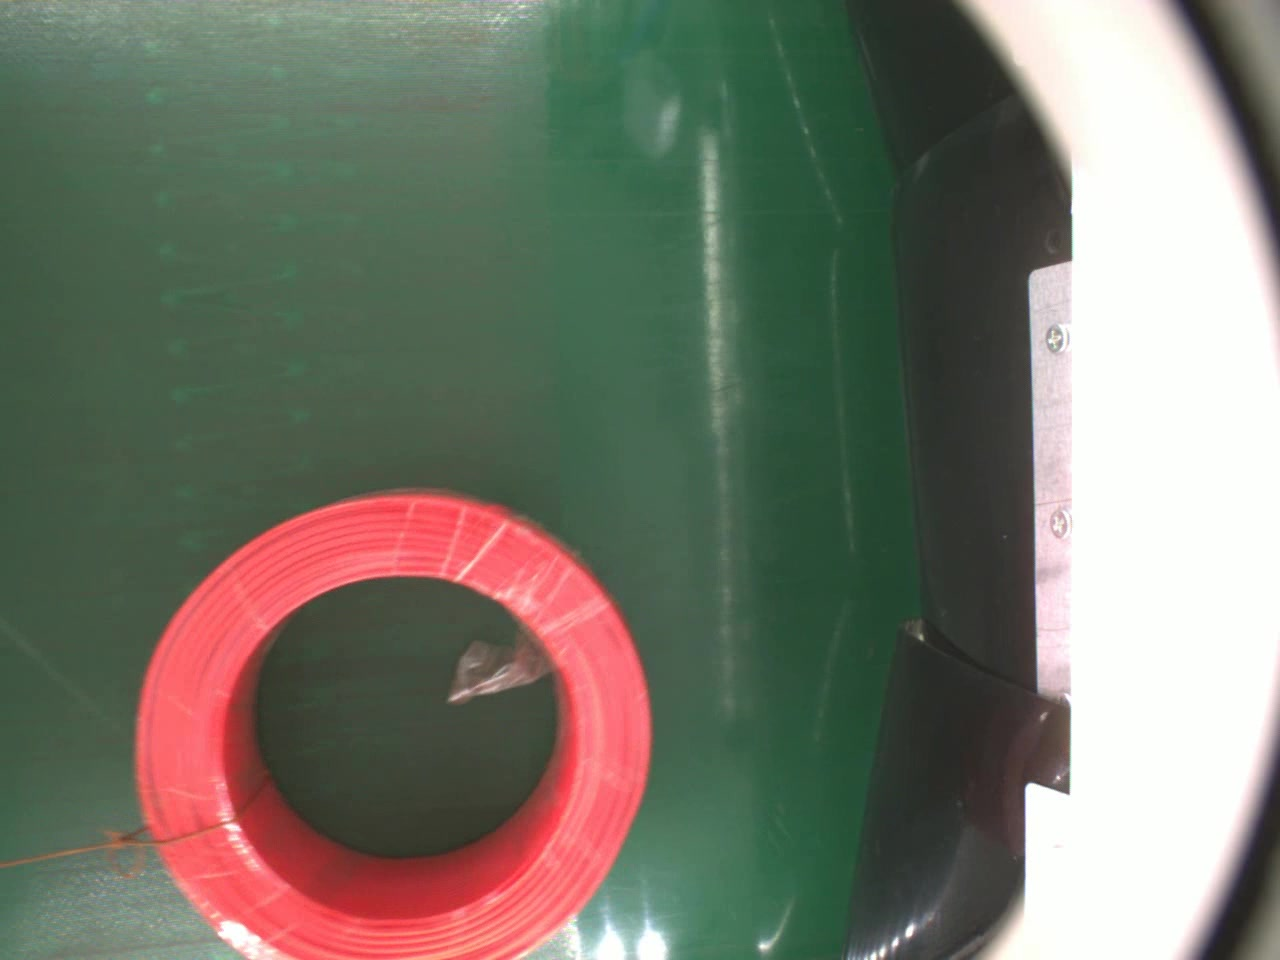red: (127, 492, 657, 960)
